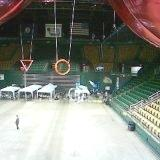Orange_Circle_GShape: (54, 59, 69, 75)
Orange_Triangle_Gshape: (19, 59, 32, 72)
